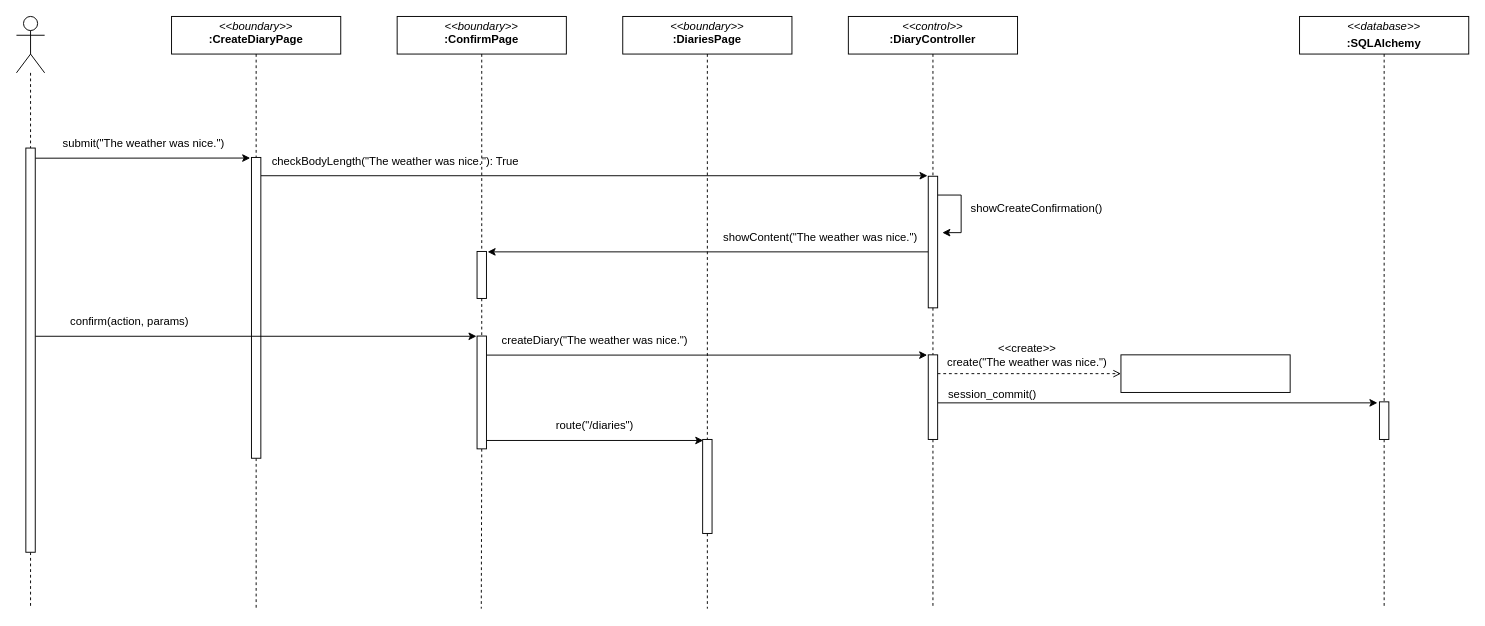
Some shapes in this 1485 by 626 pixel diagram are drawn without their labels. The shapes that lost their labels are listed below. From the top down, each one's centre as x and y in pixels, then its label:
the point at 30,44: :User
the point at 1205,373: <<entity >> newDiary:Diary
